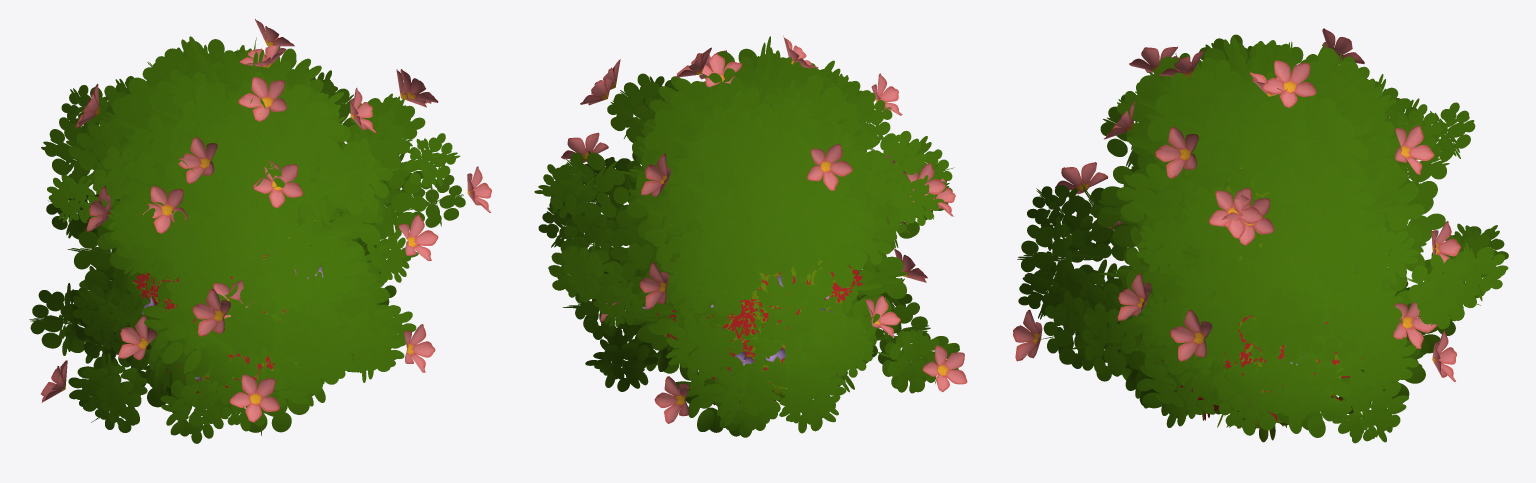
The model's file is bush.glb.
3 renders of one model, left to right at view 1: azimuth 30°, elevation 25°; view 2: azimuth 150°, elevation 25°; view 3: azimuth 270°, elevation 25°, orthographic. The views are drawn at different scales.
Visible parts, largest first — view 1: Bush_Large_Flowers, Bush_Large, Bush_Common; view 2: Bush_Large_Flowers, Bush_Large, Bush_Common, Bush_Common_Flowers; view 3: Bush_Large_Flowers, Bush_Large, Bush_Common, Bush_Long_2.
Part boxes in pixels (bbox=[...]): Bush_Large_Flowers: bbox=[29, 19, 491, 441]; Bush_Large: bbox=[30, 37, 465, 443]; Bush_Common: bbox=[133, 252, 308, 394]; Bush_Large_Flowers: bbox=[534, 35, 967, 437]; Bush_Large: bbox=[538, 47, 959, 436]; Bush_Common: bbox=[656, 266, 862, 404]; Bush_Common_Flowers: bbox=[642, 268, 860, 405]; Bush_Large_Flowers: bbox=[1013, 28, 1508, 443]; Bush_Large: bbox=[1018, 36, 1508, 442]; Bush_Common: bbox=[1162, 309, 1362, 420]; Bush_Long_2: bbox=[1215, 147, 1342, 442].
Size of what is drawn, in the model's own units: 3.8 by 3.26 by 3.67.
4 materials, 4 textured.
